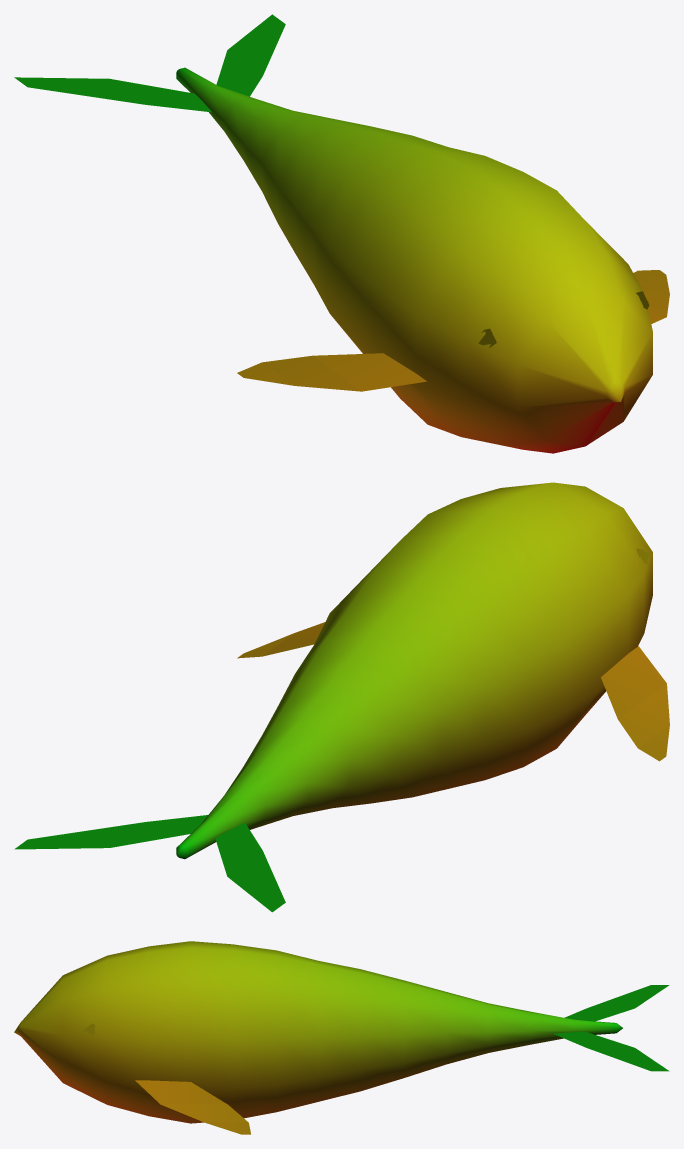
Rendered from bowhead.glb.
3 renders of one model, top to bottom at view 1: azimuth 30°, elevation 25°; view 2: azimuth 150°, elevation 25°; view 3: azimuth 270°, elevation 25°, orthographic. The views are drawn at different scales.
Parts seen in each view (by area): view 1: body; view 2: body; view 3: body.
Part boxes in pixels (bbox=[...]): body: bbox=[14, 14, 669, 453]; body: bbox=[14, 482, 669, 912]; body: bbox=[14, 941, 669, 1134].
Bounding box in the file's own units: 0.5625 × 0.3203 × 1.1.
